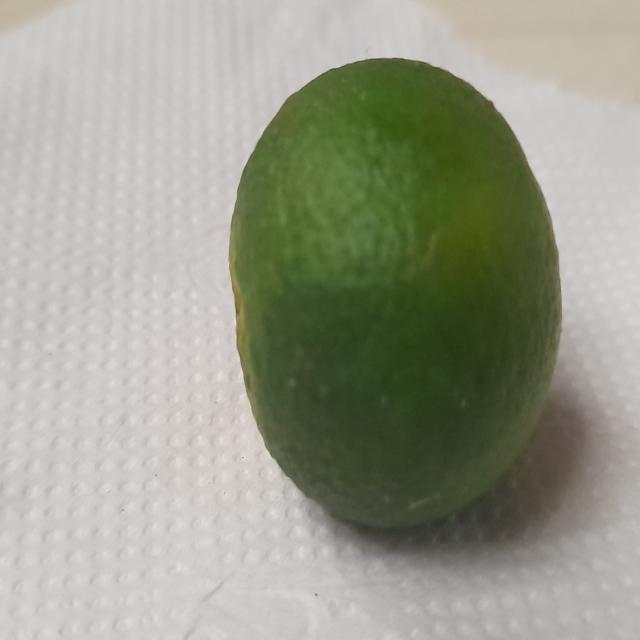heathy: (216, 48, 576, 562)
